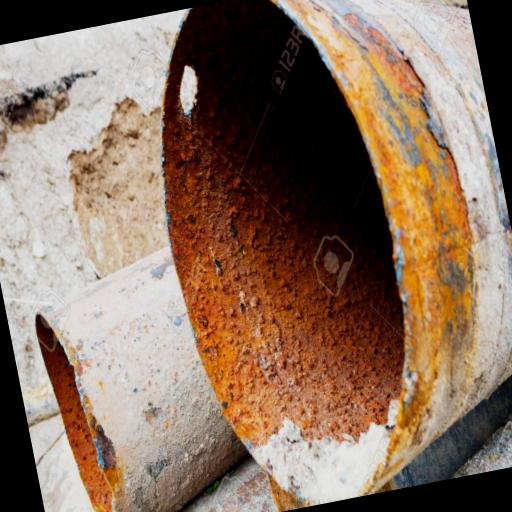corrosion: (7, 313, 138, 512)
